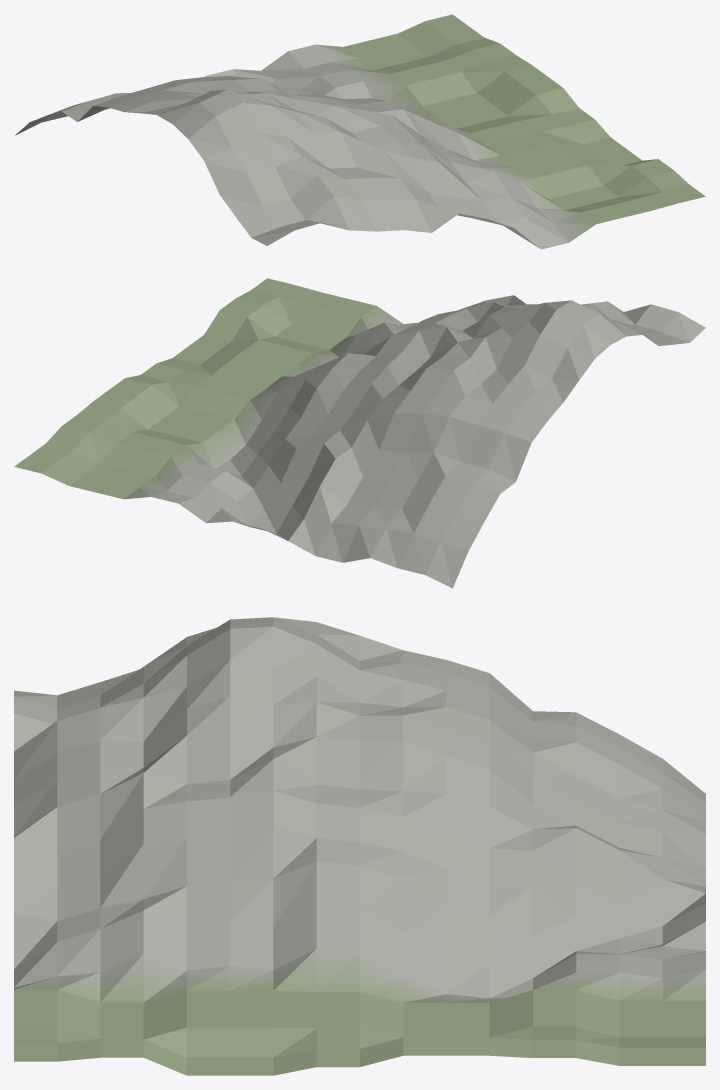
3 views of the same model, one above another, from view 1: azimuth 30°, elevation 25°; view 2: azimuth 150°, elevation 25°; view 3: azimuth 270°, elevation 25° (orthographic). The views are drawn at different scales.
Size of the model in its own units: 32 by 10.63 by 32.
